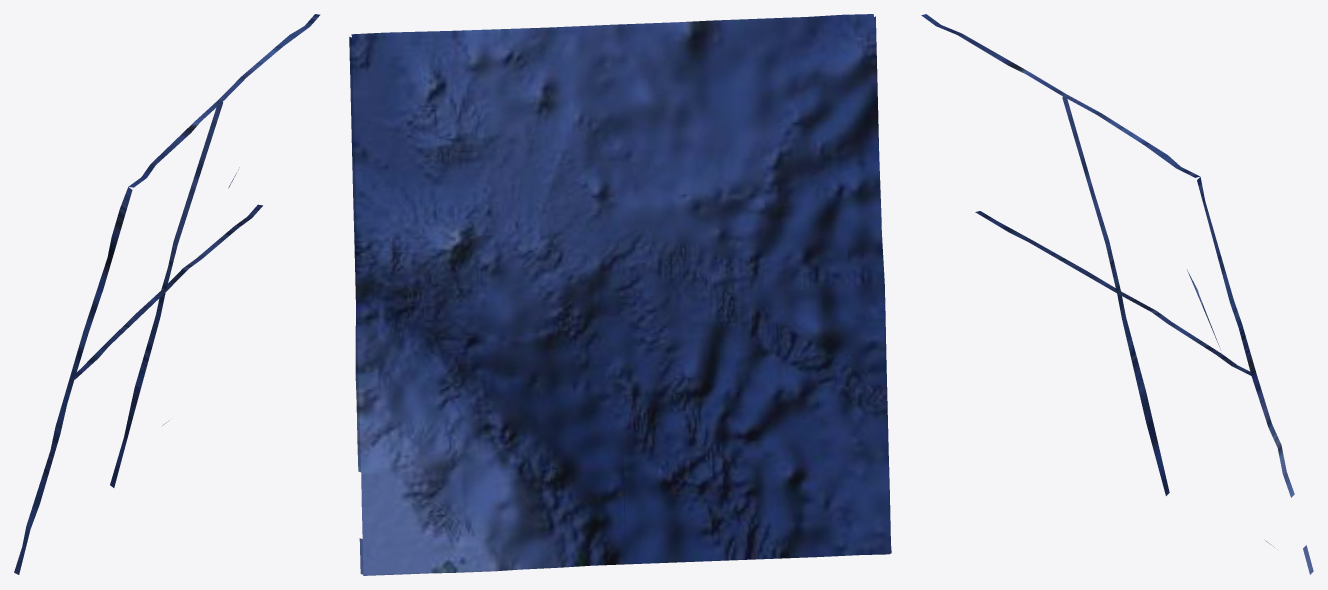
3 renders of one model, left to right at view 1: azimuth 30°, elevation 25°; view 2: azimuth 150°, elevation 25°; view 3: azimuth 270°, elevation 25°, orthographic. The views are drawn at different scales.
Size of the model in its own units: 298852 by 304883 by 250237.
1 material, 1 textured.
